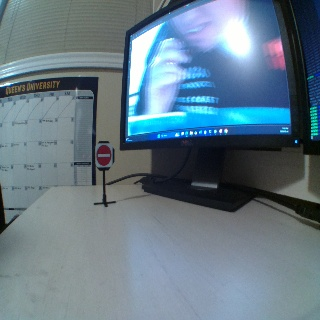sign_noentry: (93, 142, 113, 166)
